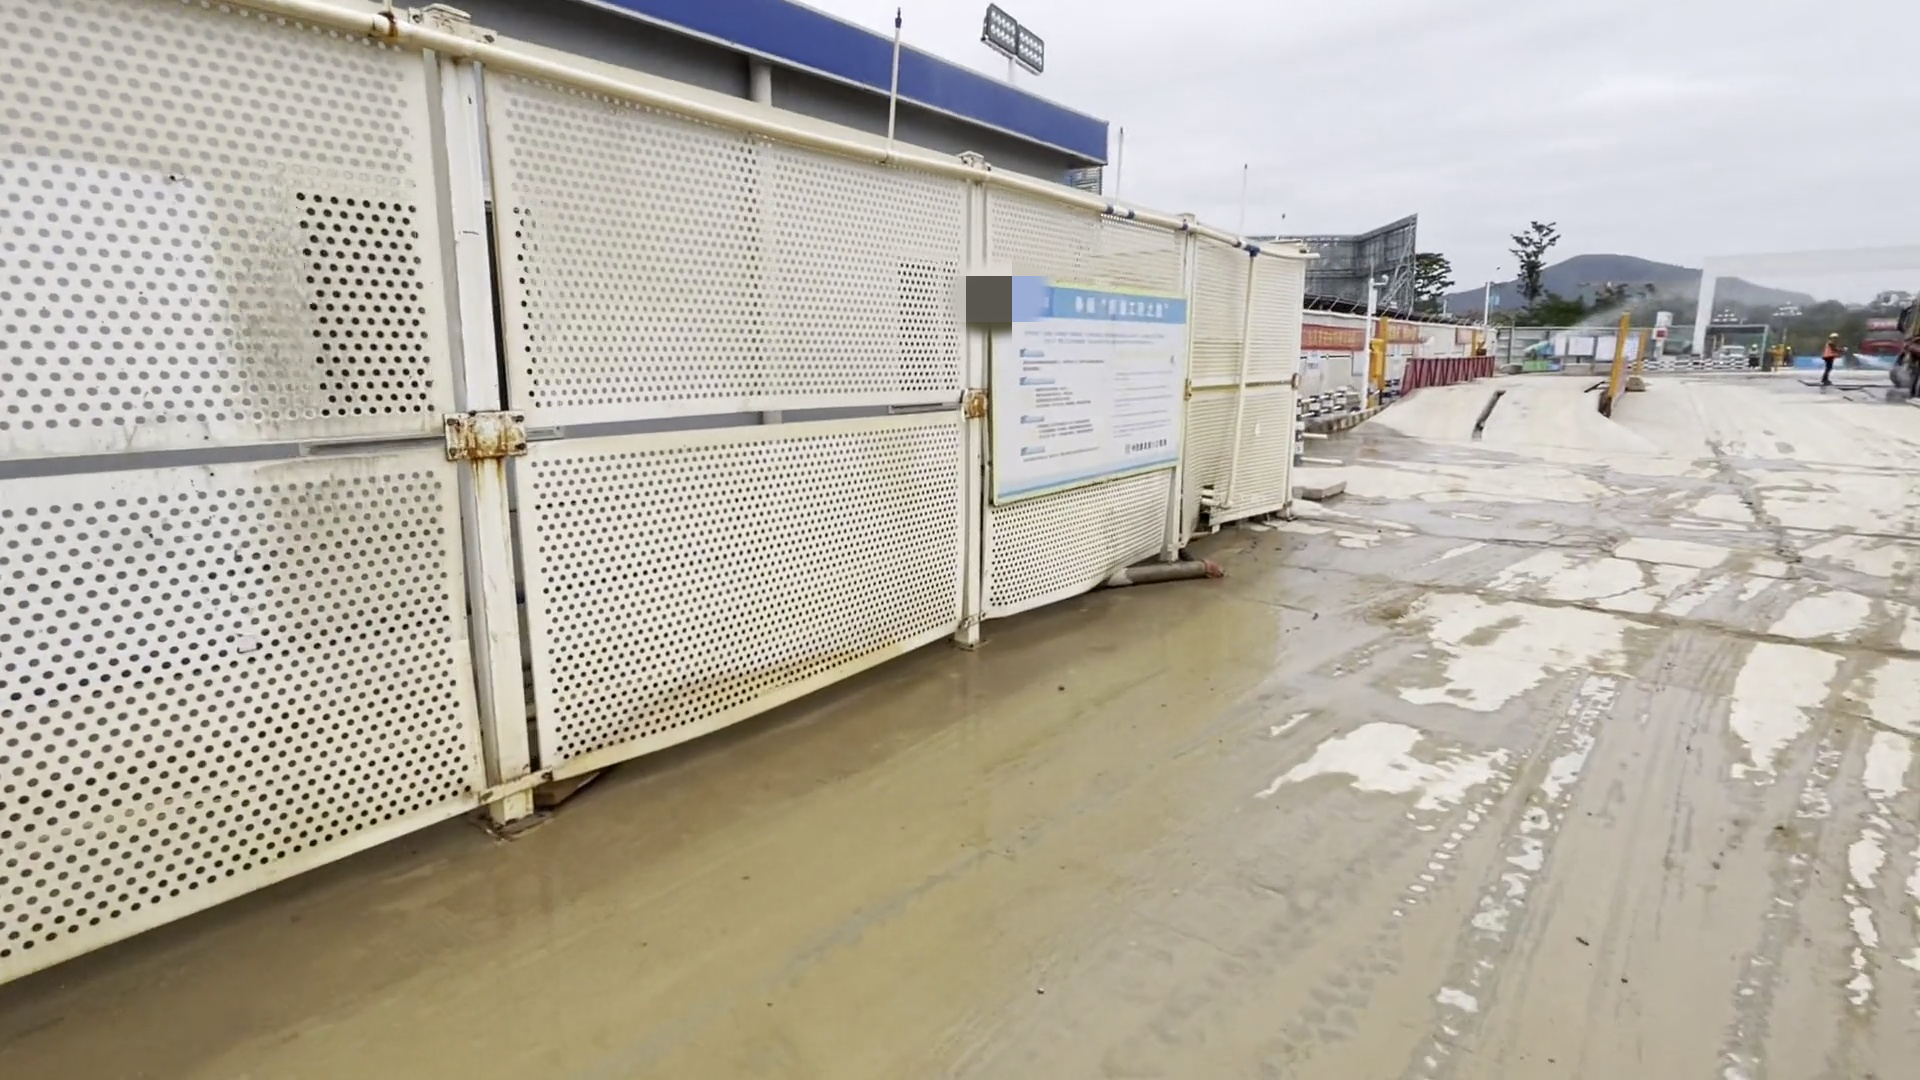slogan: (969, 276, 1195, 509)
